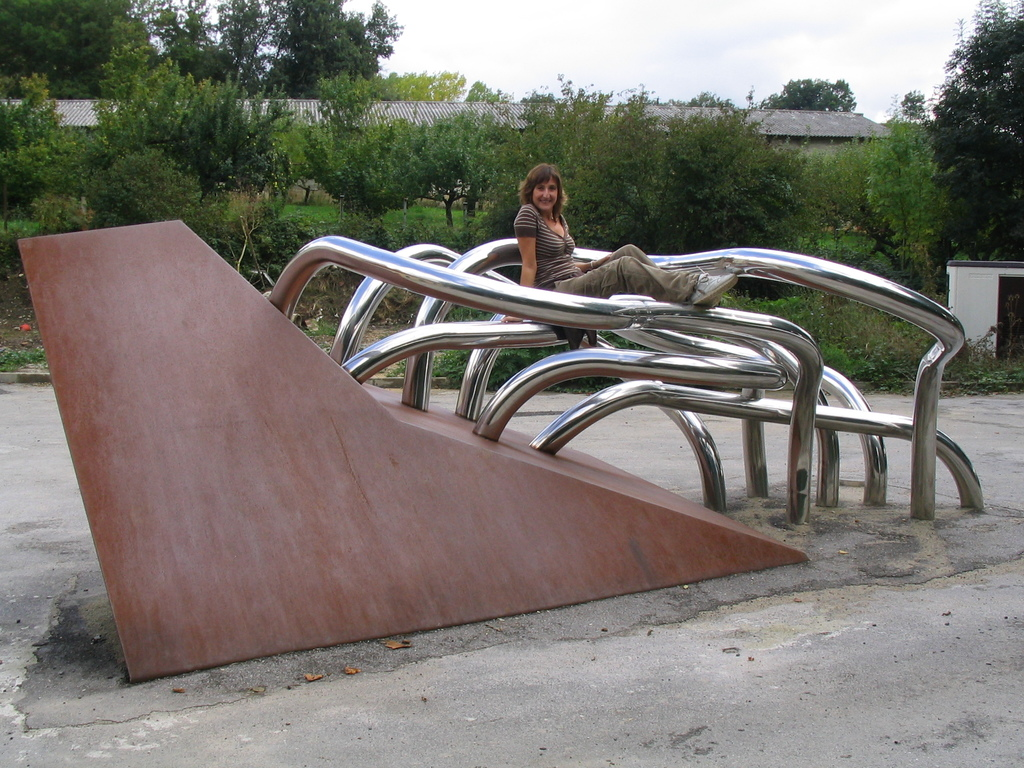person: (512, 161, 728, 305)
